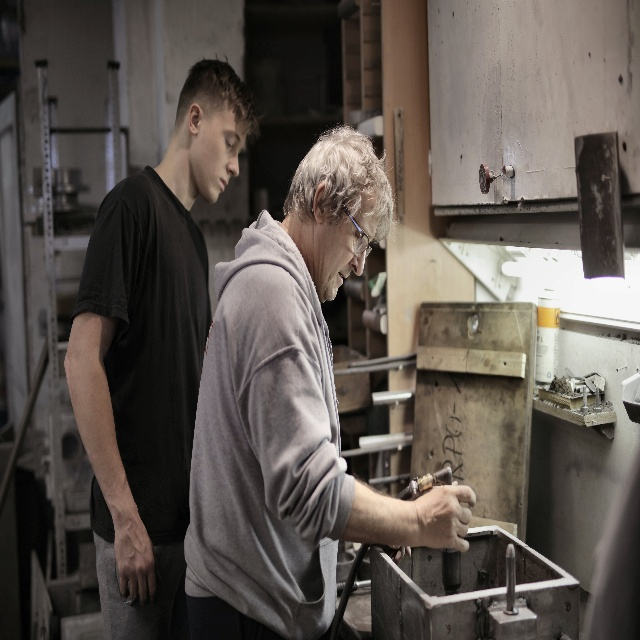Gafas: (342, 201, 372, 258)
Sin_guantes: (113, 501, 157, 608), (413, 480, 477, 552), (384, 542, 411, 564)
